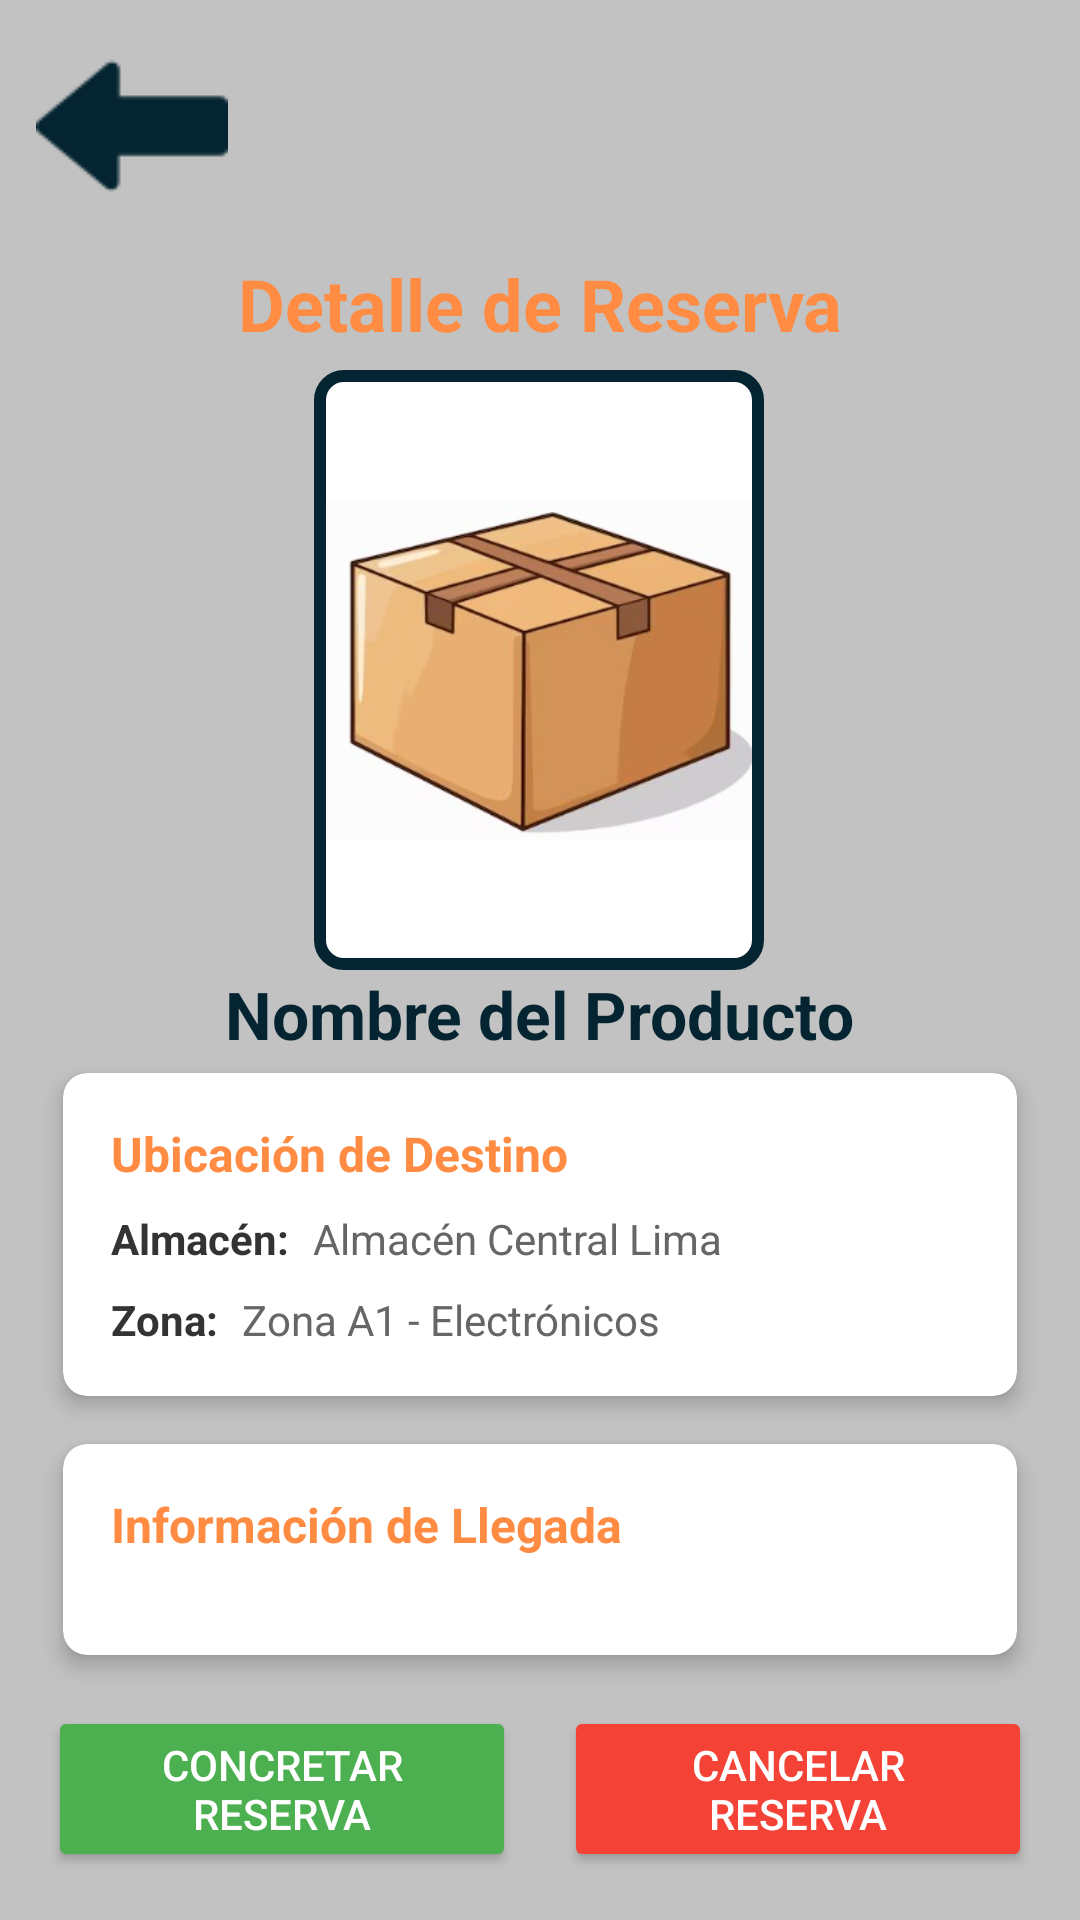

Screen size 1080w x 1920h. Icon name, then its center in pixels as [x,y]:
left arrow: [132,125]
